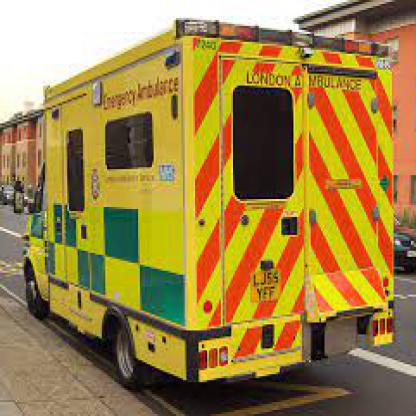van: (21, 22, 397, 404)
